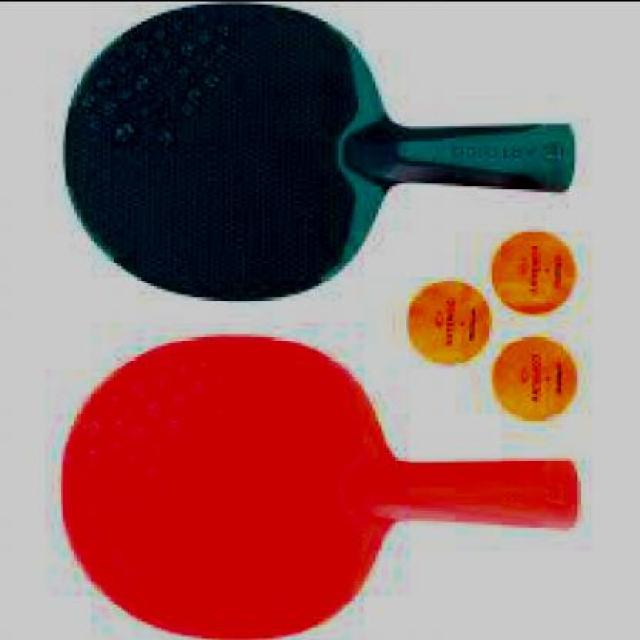table_tennis_racket: (54, 330, 407, 638), (61, 0, 395, 308)
